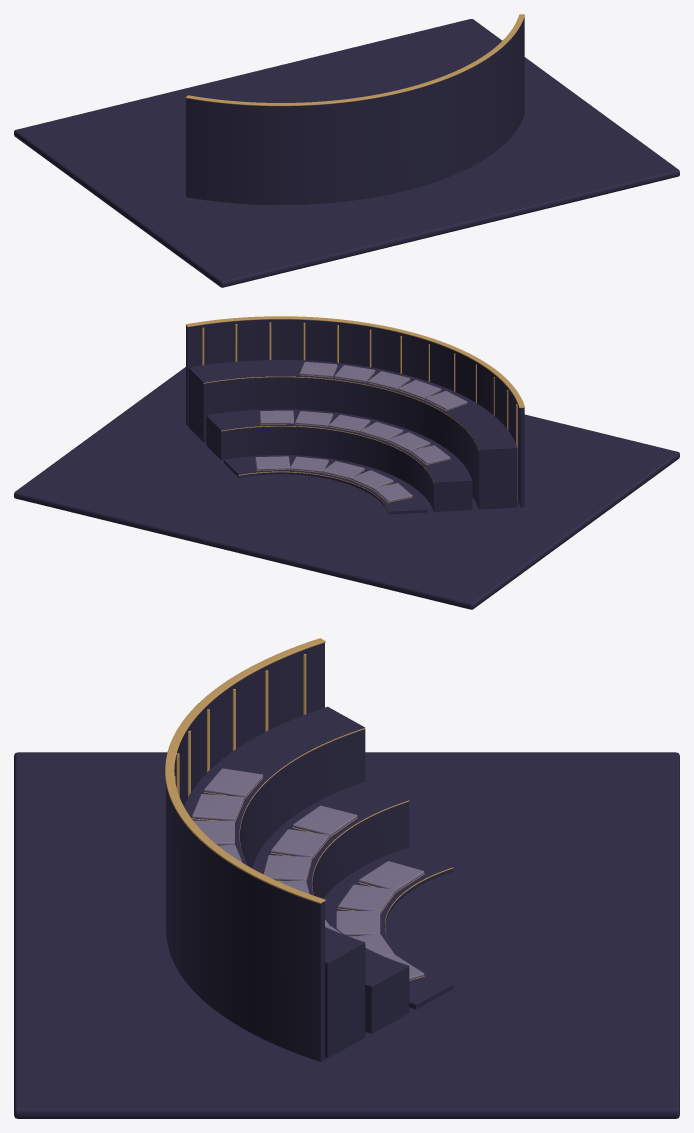
Rendered from BF_DisplayStage_16_v006.glb.
3 views of the same model, one above another, from view 1: azimuth 30°, elevation 25°; view 2: azimuth 150°, elevation 25°; view 3: azimuth 270°, elevation 25° (orthographic). The views are drawn at different scales.
Parts seen in each view (by area): view 1: Stage_Indigo, Stage_Champagne; view 2: Stage_Indigo, Stage_Porcelain, Stage_Champagne; view 3: Stage_Indigo, Stage_Porcelain, Stage_Champagne.
Part boxes in pixels (x1,y1,x2,y2): Stage_Indigo: (14, 17, 679, 287); Stage_Champagne: (185, 14, 524, 106); Stage_Indigo: (14, 319, 679, 609); Stage_Porcelain: (255, 362, 467, 502); Stage_Champagne: (185, 316, 524, 512); Stage_Indigo: (14, 643, 679, 1118); Stage_Porcelain: (192, 768, 424, 980); Stage_Champagne: (165, 638, 453, 980).
Size of the model in its own units: 28 by 6.23 by 22.
